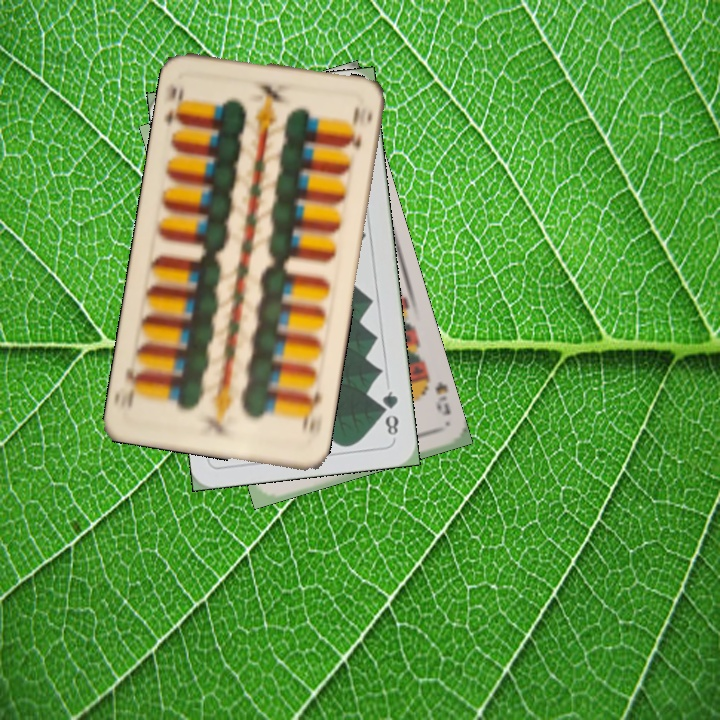E10: (160, 83, 188, 129), (298, 386, 324, 434)
G8: (377, 387, 402, 438)
S9: (419, 368, 453, 418)
